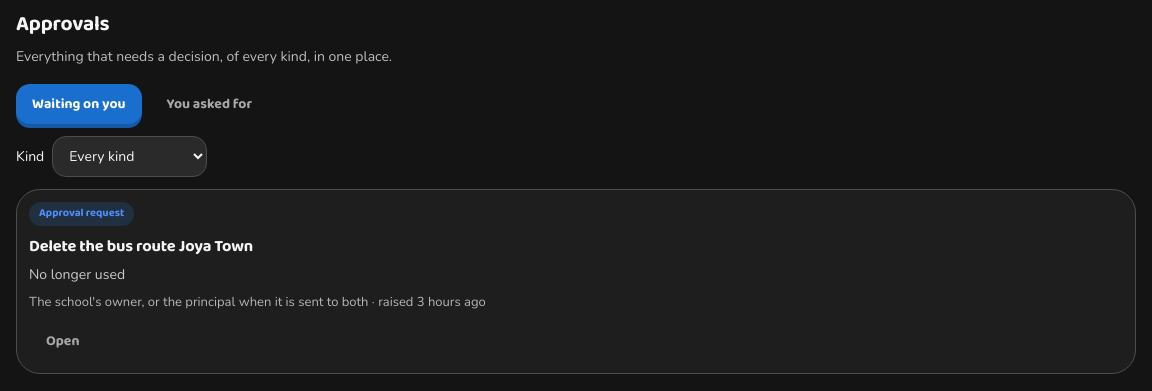
Test: the two directions are both offered, because a department head raises far more than he decides
Expected: the heading "Delete the bus route Joya Town" is shown, left=29, top=233, right=253, bottom=260
Click the button with test id "tab-raised".
click(209, 104)  # box left=150, top=84, right=269, bottom=124
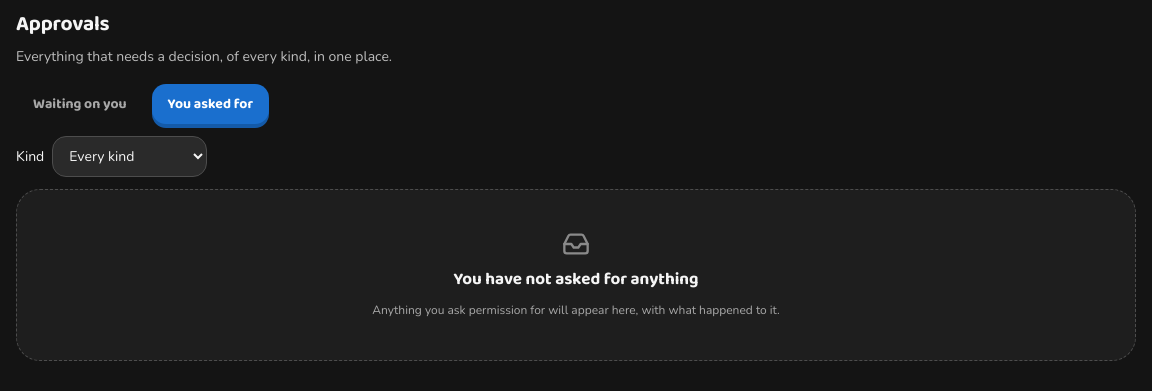
Result: the text "You have not asked for anything" is shown at left=453, top=266, right=699, bottom=293
